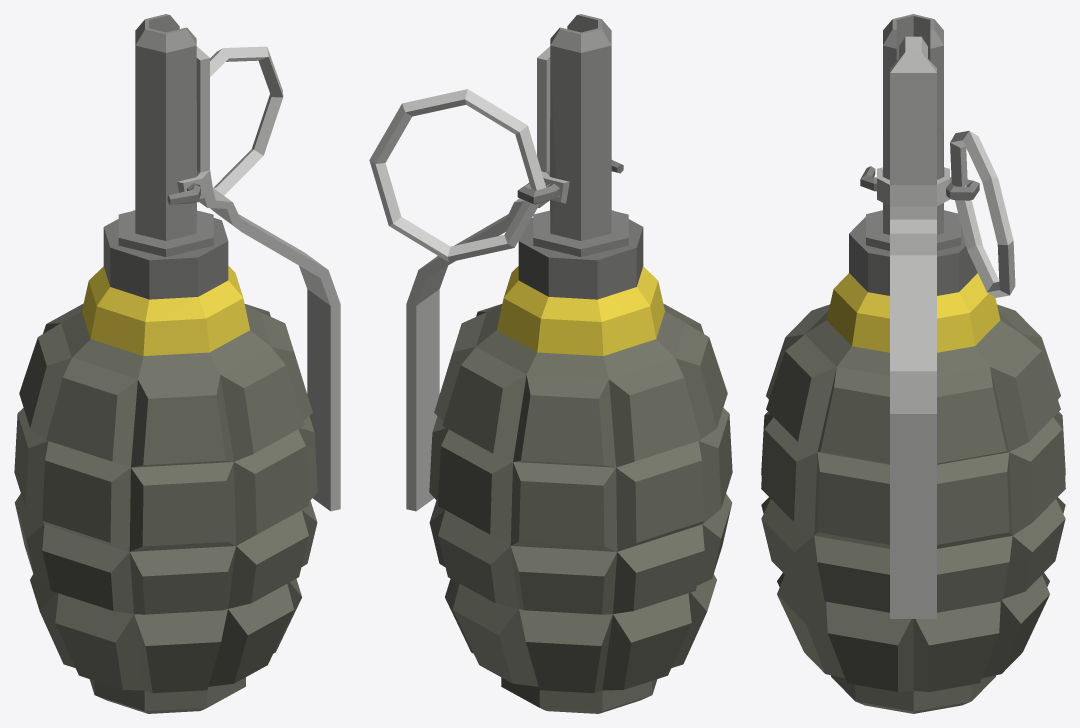
The model's file is SM_Bomb_014.fbx.
3 views of the same model, side by side, from view 1: azimuth 30°, elevation 25°; view 2: azimuth 150°, elevation 25°; view 3: azimuth 270°, elevation 25° (orthographic).
Visible parts, largest first — view 1: SM_Bomb_014; view 2: SM_Bomb_014; view 3: SM_Bomb_014.
Part boxes in pixels (x1=…): SM_Bomb_014: x1=14, y1=14, x2=340, y2=713; SM_Bomb_014: x1=369, y1=14, x2=732, y2=713; SM_Bomb_014: x1=761, y1=14, x2=1065, y2=713.
Size of the model in its own units: 2.11 by 4.51 by 1.88.
1 material, 1 textured.
